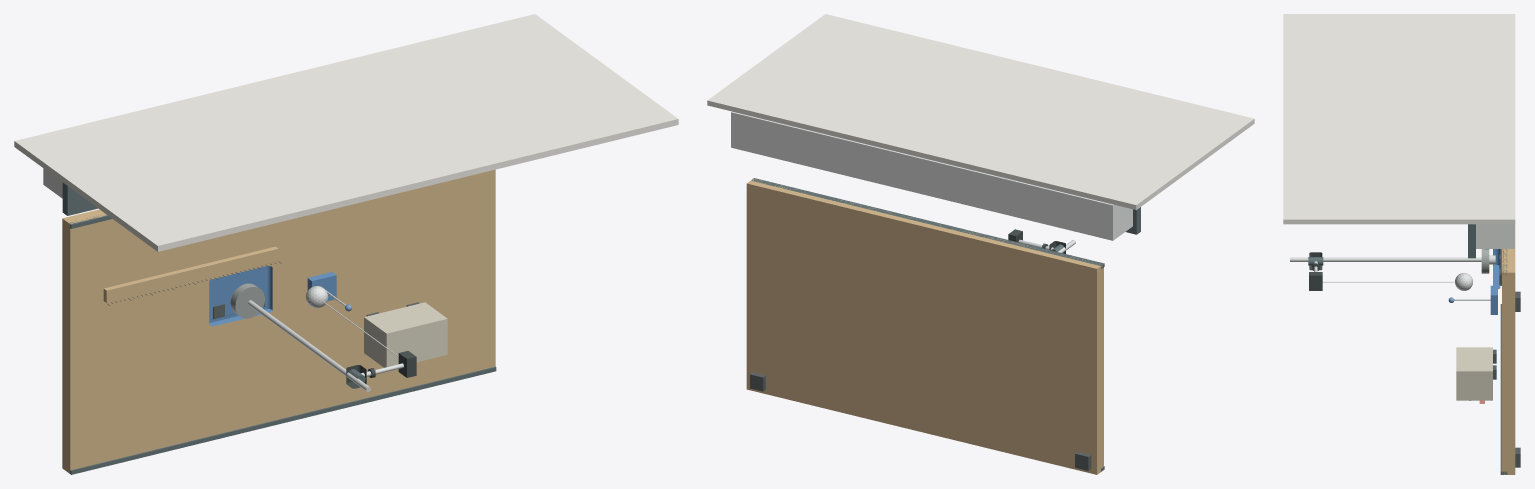
File: rp07-pendulum.glb
3 renders of one model, left to right at view 1: azimuth 30°, elevation 25°; view 2: azimuth 150°, elevation 25°; view 3: azimuth 270°, elevation 25°, orthographic. The views are drawn at different scales.
Parts seen in each view (by area): view 1: Laboratory bench laminate, Laboratory background wall, Stop clock grey case, Metre rule, Laboratory bench dark edge, Pendulum stand blue base, Pendulum stand vertical rod, Stand counterweight; view 2: Laboratory bench laminate, Laboratory background wall, Laboratory background cabinet carcass, Laboratory bench rear edge; view 3: Laboratory background wall, Laboratory bench laminate, Stop clock grey case, Laboratory background cabinet carcass, Pendulum stand vertical rod, Laboratory bench dark edge, Laboratory background worktop, Pendulum bob, Pendulum clamp jaws, Pendulum string_0.
Boxes of the visible parts, left/top/right/bottom form: Laboratory bench laminate: left=62, top=169, right=495, bottom=473; Laboratory background wall: left=14, top=14, right=678, bottom=251; Stop clock grey case: left=364, top=302, right=447, bottom=367; Metre rule: left=103, top=246, right=278, bottom=302; Laboratory bench dark edge: left=70, top=366, right=496, bottom=474; Pendulum stand blue base: left=209, top=266, right=272, bottom=325; Pendulum stand vertical rod: left=248, top=300, right=370, bottom=391; Stand counterweight: left=230, top=283, right=264, bottom=318; Laboratory bench laminate: left=746, top=179, right=1103, bottom=474; Laboratory background wall: left=707, top=14, right=1254, bottom=209; Laboratory background cabinet carcass: left=731, top=111, right=1132, bottom=240; Laboratory bench rear edge: left=751, top=178, right=1104, bottom=268; Laboratory background wall: left=1283, top=14, right=1515, bottom=224; Laboratory bench laminate: left=1502, top=224, right=1515, bottom=474; Stop clock grey case: left=1456, top=347, right=1492, bottom=400; Laboratory background cabinet carcass: left=1476, top=224, right=1514, bottom=248; Pendulum stand vertical rod: left=1290, top=257, right=1481, bottom=261; Laboratory bench dark edge: left=1500, top=304, right=1507, bottom=474; Laboratory background worktop: left=1468, top=224, right=1475, bottom=258; Pendulum bob: left=1455, top=273, right=1472, bottom=290; Pendulum clamp jaws: left=1309, top=272, right=1322, bottom=290; Pendulum string_0: left=1323, top=281, right=1453, bottom=282.
Size of the model in its own units: 10.9 by 6.78 by 5.32.
